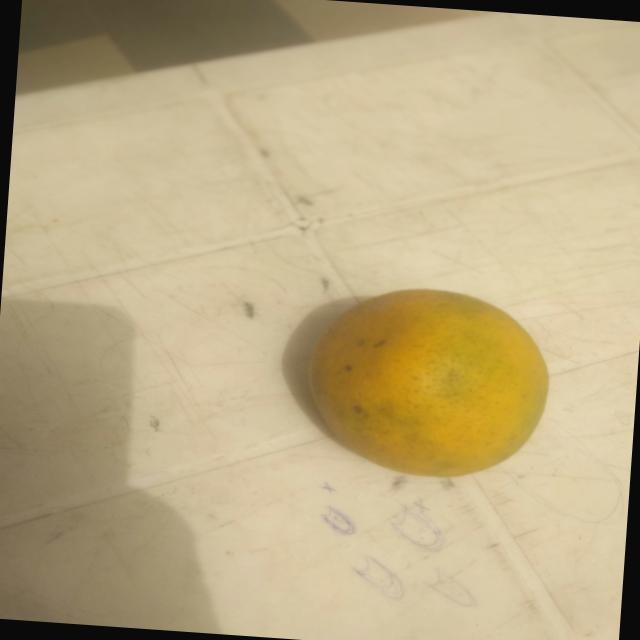agrume: (287, 269, 565, 500)
